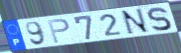2: (99, 13, 123, 37)
7: (72, 14, 94, 41)
9: (25, 21, 48, 46)
N: (119, 8, 151, 37)
P: (46, 18, 71, 44)
S: (146, 6, 173, 33)
